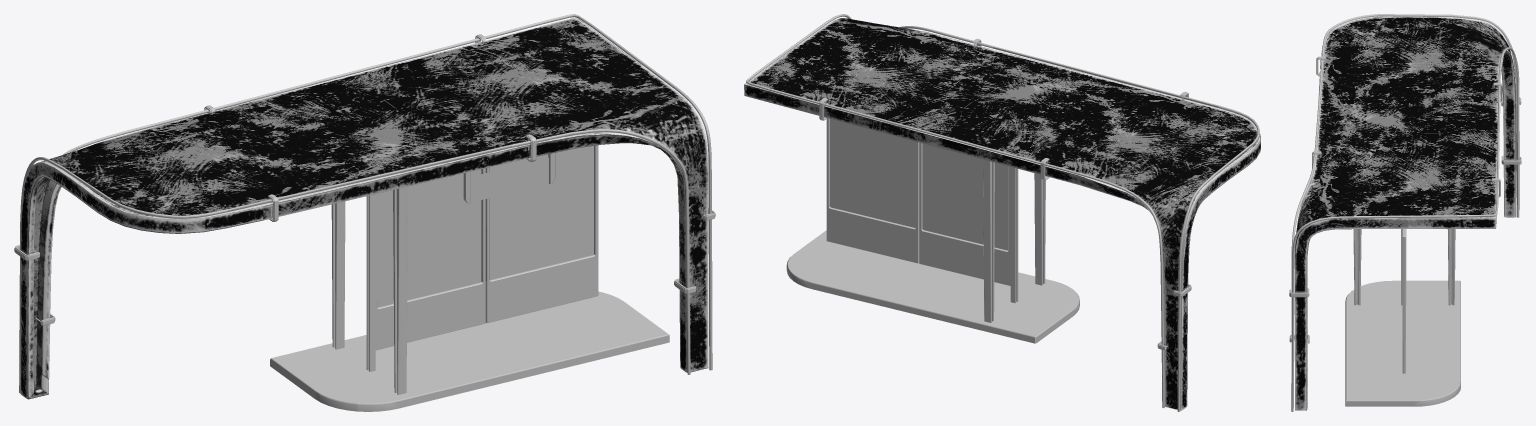
Rendered from SM_BusStop.fbx.
The picture shows the model from 3 angles, left to right: view 1: azimuth 30°, elevation 25°; view 2: azimuth 150°, elevation 25°; view 3: azimuth 270°, elevation 25°; orthographic projection. The views are drawn at different scales.
Visible parts, largest first — view 1: SM_BusStop_LOD0; view 2: SM_BusStop_LOD0; view 3: SM_BusStop_LOD0.
Part boxes in pixels (x1,y1,x2,y2): SM_BusStop_LOD0: (14,14,715,411); SM_BusStop_LOD0: (744,14,1260,411); SM_BusStop_LOD0: (1289,14,1521,411).
Bounding box in the file's own units: 734 × 353 × 333.
